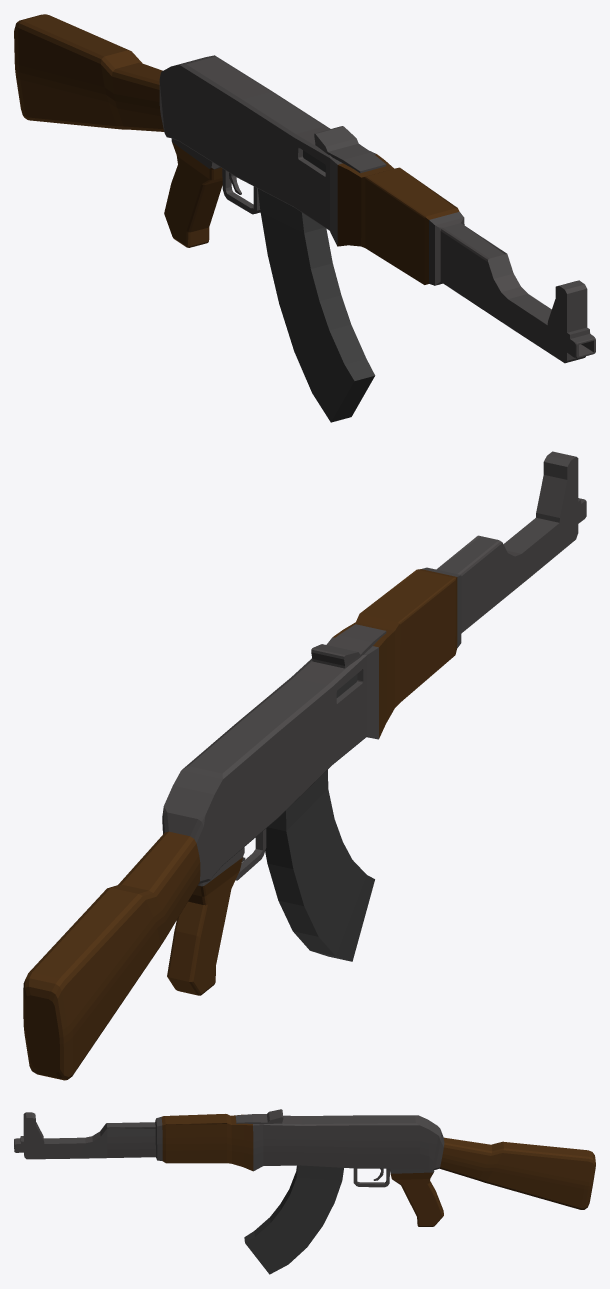
Rendered from Lvl1_ZSU_Gun_Model.fbx.
The picture shows the model from 3 angles, top to bottom: view 1: azimuth 30°, elevation 25°; view 2: azimuth 150°, elevation 25°; view 3: azimuth 270°, elevation 25°; orthographic projection. The views are drawn at different scales.
Parts seen in each view (by area): view 1: Cube; view 2: Cube; view 3: Cube.
Boxes of the visible parts, x1,y1,x2,y2 form: Cube: (14,14,595,422); Cube: (23,451,586,1080); Cube: (14,1109,595,1274).
Bounding box in the file's own units: 12.24 × 48.06 × 157.
